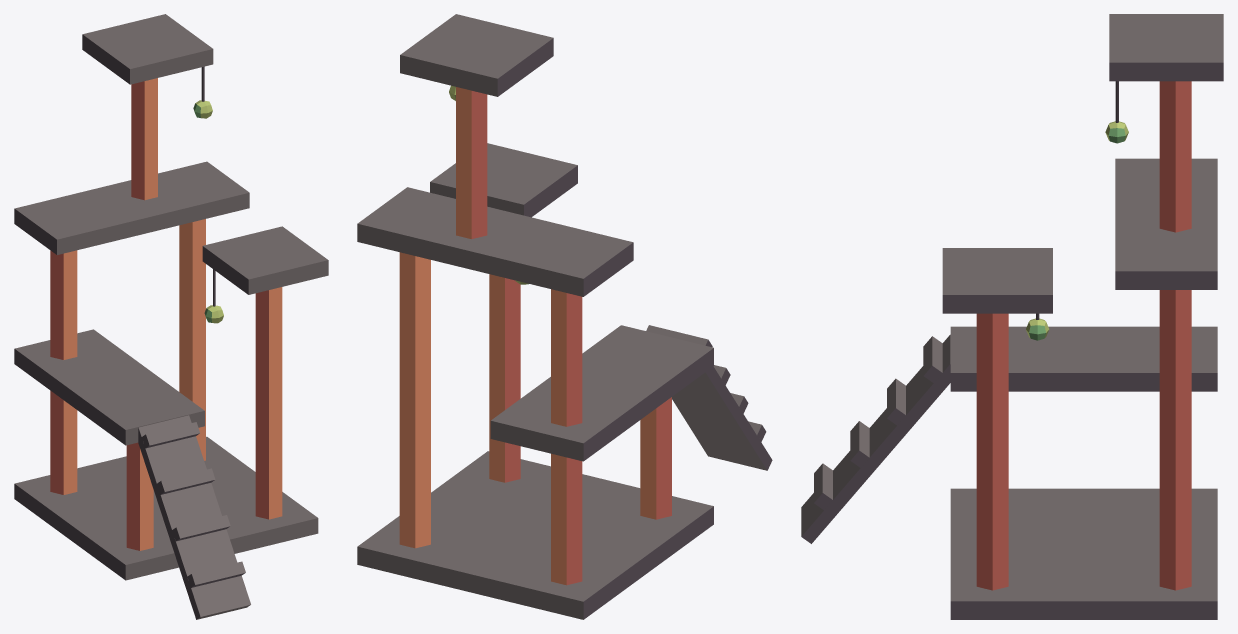
Rendered from Cat Tree.fbx.
3 renders of one model, left to right at view 1: azimuth 30°, elevation 25°; view 2: azimuth 150°, elevation 25°; view 3: azimuth 270°, elevation 25°, orthographic. The views are drawn at different scales.
Parts seen in each view (by area): view 1: Cat Tree; view 2: Cat Tree; view 3: Cat Tree.
Boxes of the visible parts, x1=… form: Cat Tree: x1=14, y1=14, x2=328, y2=619; Cat Tree: x1=357, y1=14, x2=772, y2=619; Cat Tree: x1=801, y1=14, x2=1223, y2=619.
Bounding box in the file's own units: 141 × 301 × 215.
